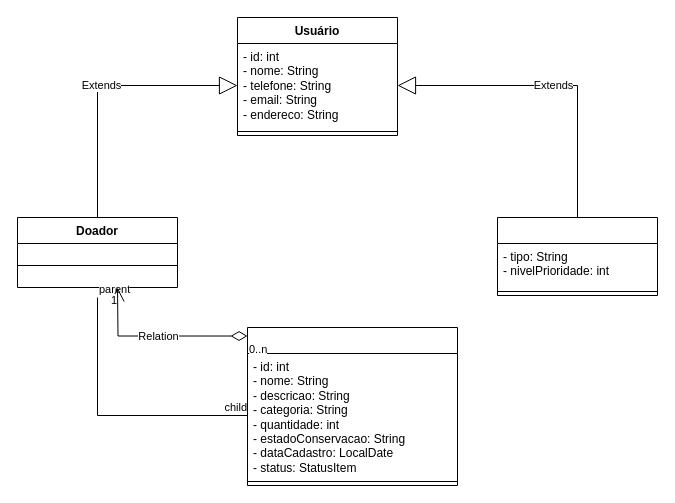
Image size: 675x503. Some labels were removed from this diagram. The box of each missing label's shape, as (x1, y1, x2, y2) in pixels:
Beneficiário: (496, 216, 658, 296)
Item Doação: (246, 326, 458, 486)
